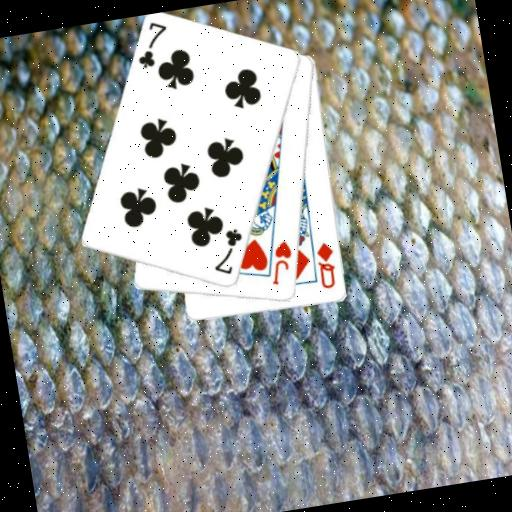7C: (129, 16, 174, 71), (206, 224, 250, 278)
JH: (263, 236, 298, 287)
QD: (311, 237, 340, 291)
